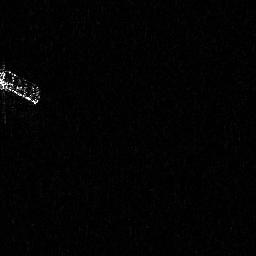ship: (1, 63, 41, 105)
